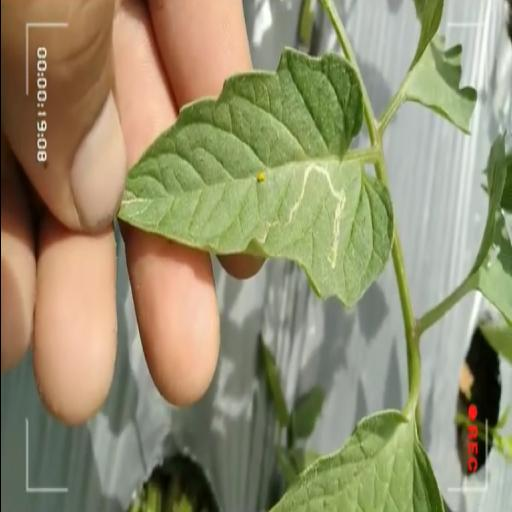Leaf Miner: (116, 46, 394, 310)
